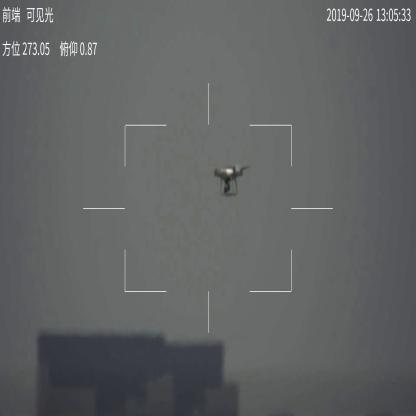uav: (207, 161, 249, 196)
